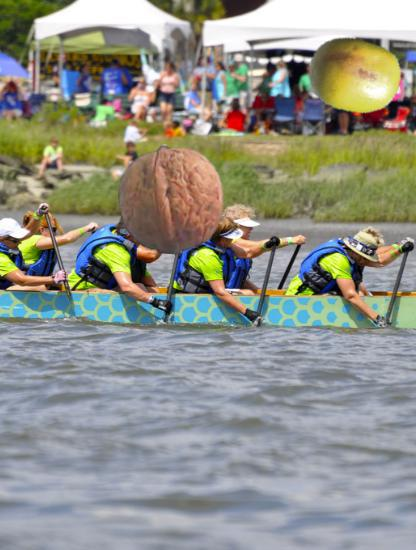Pomelo: (308, 29, 402, 123)
Walnut: (117, 145, 226, 254)
